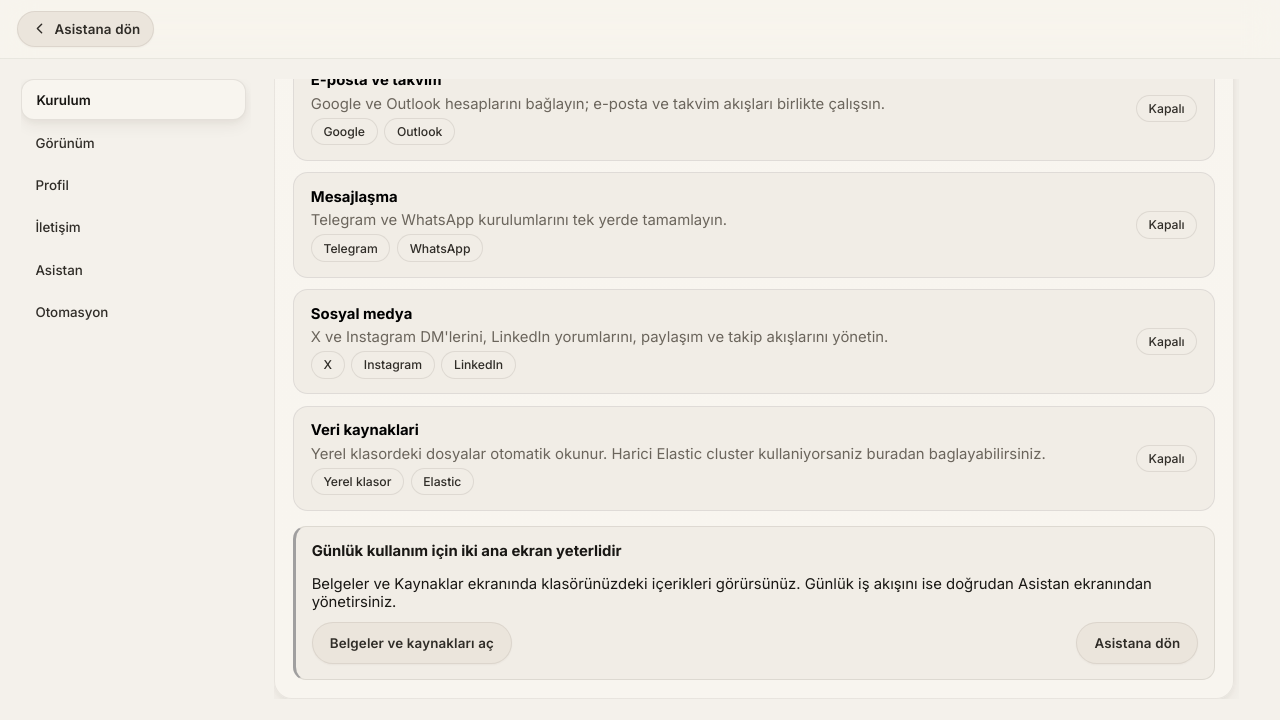
Scenario: SettingsPage › explains that local workspace files need no extra data-source setup and only surfaces Elastic here
(page scrolled)
Click the button "Veri kaynaklari" at (754, 458), box [294, 406, 1214, 510]
(page scrolled)
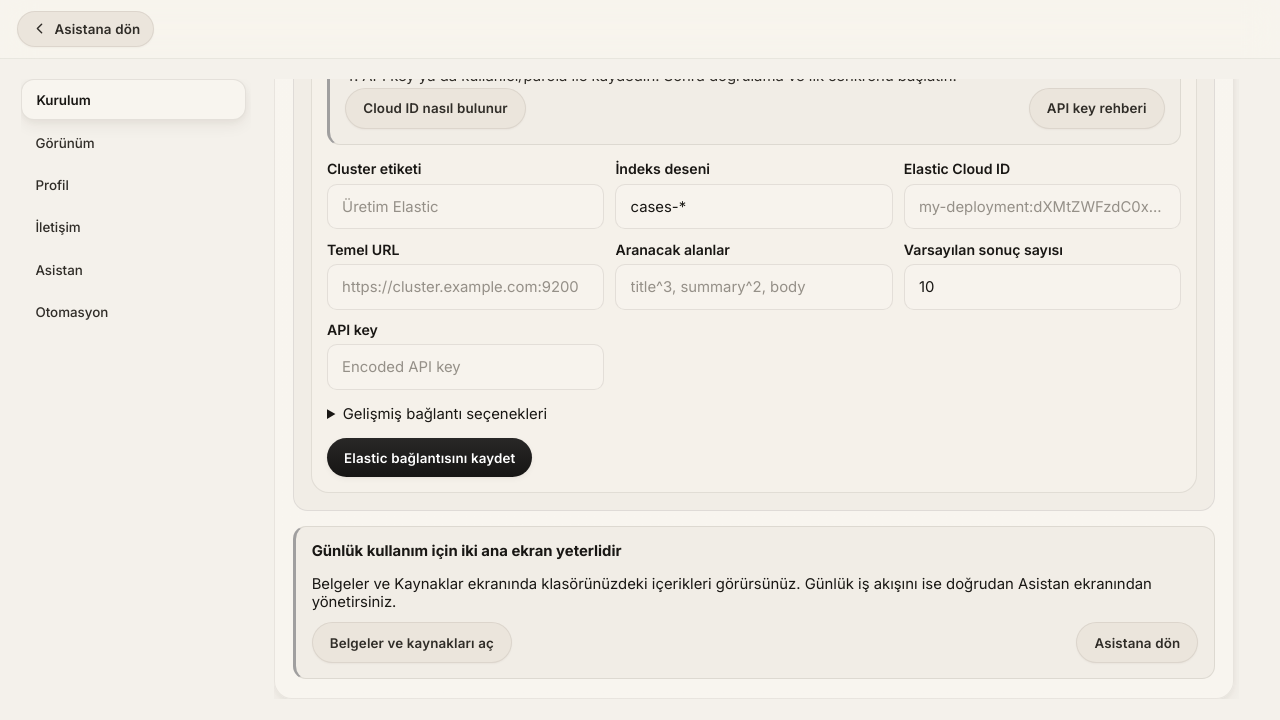
Expected: the field labelled "Elastic Cloud ID" is shown, [904, 184, 1181, 229]
Expected: the button "Elastic bağlantısını kaydet" is shown, [327, 438, 532, 477]
